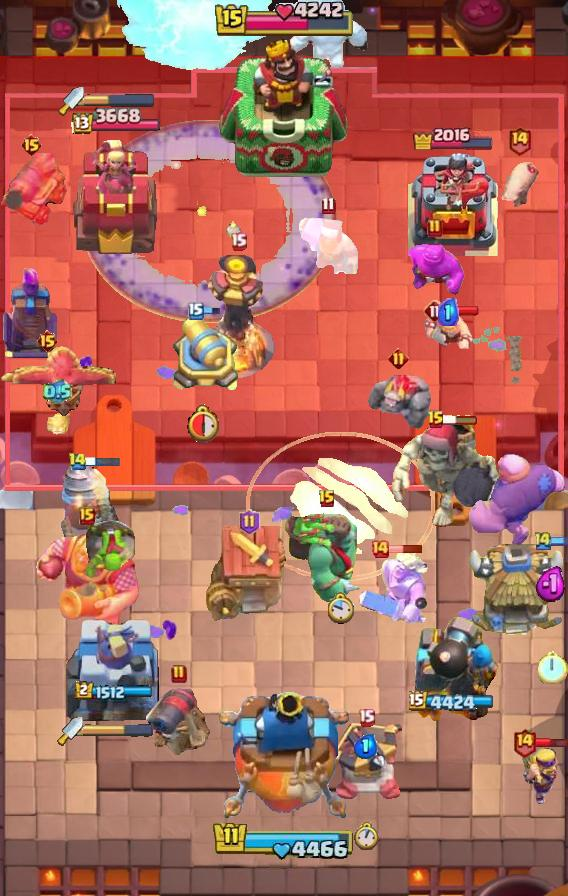archer: (416, 307, 480, 353)
arrows: (520, 745, 560, 805)
balloon: (466, 452, 568, 552)
bar: (66, 611, 162, 731), (70, 138, 158, 256)
bar-level: (82, 519, 136, 581)
clock: (212, 820, 356, 862), (213, 0, 355, 40)
electro-dragon: (199, 252, 277, 378)
electro-giant: (389, 416, 505, 530)
electro-spirit: (536, 566, 568, 603), (44, 379, 73, 405), (354, 733, 378, 758), (437, 298, 458, 326)
elixir: (187, 403, 223, 443), (538, 650, 568, 684), (326, 591, 354, 624), (353, 822, 378, 851)
emote: (86, 455, 123, 469), (536, 735, 568, 749), (444, 305, 480, 317), (443, 414, 479, 426), (389, 544, 424, 554), (202, 304, 221, 315), (552, 535, 568, 547)
fisherman: (503, 336, 526, 386)
giant: (496, 159, 542, 211)
giant-skeleton: (33, 530, 144, 632)
goblin-hut: (355, 547, 433, 629)
ice-spirit-evolution: (44, 407, 70, 435)
ice-spirit-evolution-symbol: (0, 268, 60, 360)
ice-wizard: (246, 431, 435, 581)
king-tower: (218, 37, 350, 181), (219, 692, 349, 826)
king-tower-bar: (84, 93, 156, 107), (83, 724, 153, 738)
lava-hound: (283, 510, 371, 604)
lava-pup: (325, 723, 407, 803)
magic-archer: (60, 460, 120, 552)
mega-knight: (105, 0, 289, 76)
mighty-miner: (295, 210, 361, 274)
mother-witch: (0, 343, 116, 419)
prince: (466, 544, 568, 640)
queen-tower: (408, 152, 498, 256)
rage: (287, 7, 371, 71)
rocket: (82, 119, 338, 323)
royal-giant-evolution: (0, 153, 68, 227), (145, 685, 213, 755)
royal-recruit: (169, 313, 241, 395)
selected: (68, 108, 159, 137), (413, 124, 496, 150), (410, 690, 499, 714), (74, 681, 154, 701)
sparky: (206, 525, 292, 623)
text: (511, 727, 536, 757), (508, 125, 532, 155), (423, 299, 447, 323), (20, 133, 43, 157), (36, 329, 59, 353), (240, 509, 261, 535), (387, 348, 408, 369), (533, 530, 553, 551), (370, 539, 390, 559), (427, 410, 445, 430), (68, 453, 88, 471), (318, 489, 336, 509), (229, 232, 247, 251), (357, 708, 375, 727), (427, 218, 443, 238), (171, 664, 187, 684), (188, 302, 204, 320), (79, 507, 95, 525), (321, 197, 335, 216)
tornado: (403, 243, 467, 297)
tower-bar: (403, 615, 503, 731)
valkyrie-evolution: (364, 369, 432, 429)
